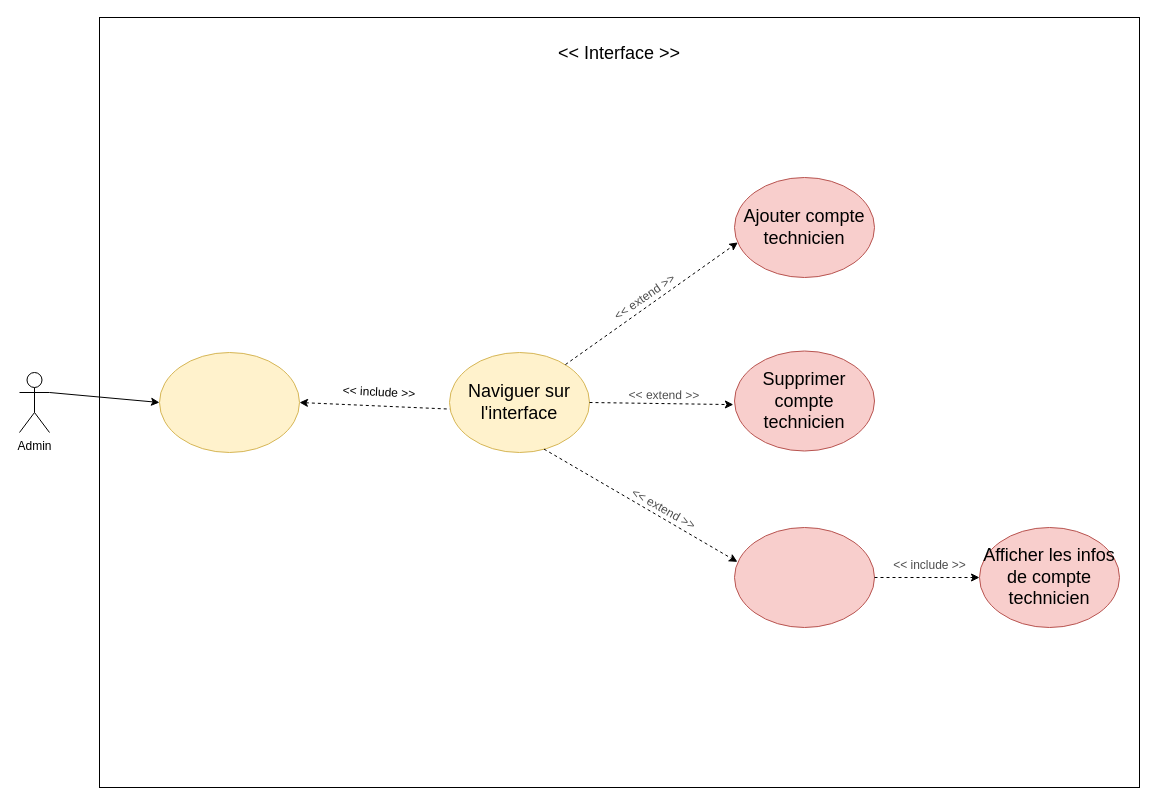
Some shapes in this 1157 by 805 pixel diagram are drawn without their labels. The shapes that lost their labels are listed below. From the top down, each one's box as (x1, y1, x2, y2) in pixels, then its label:
(158, 352, 300, 452): Login
(734, 526, 874, 628): Recherche compte technicien
